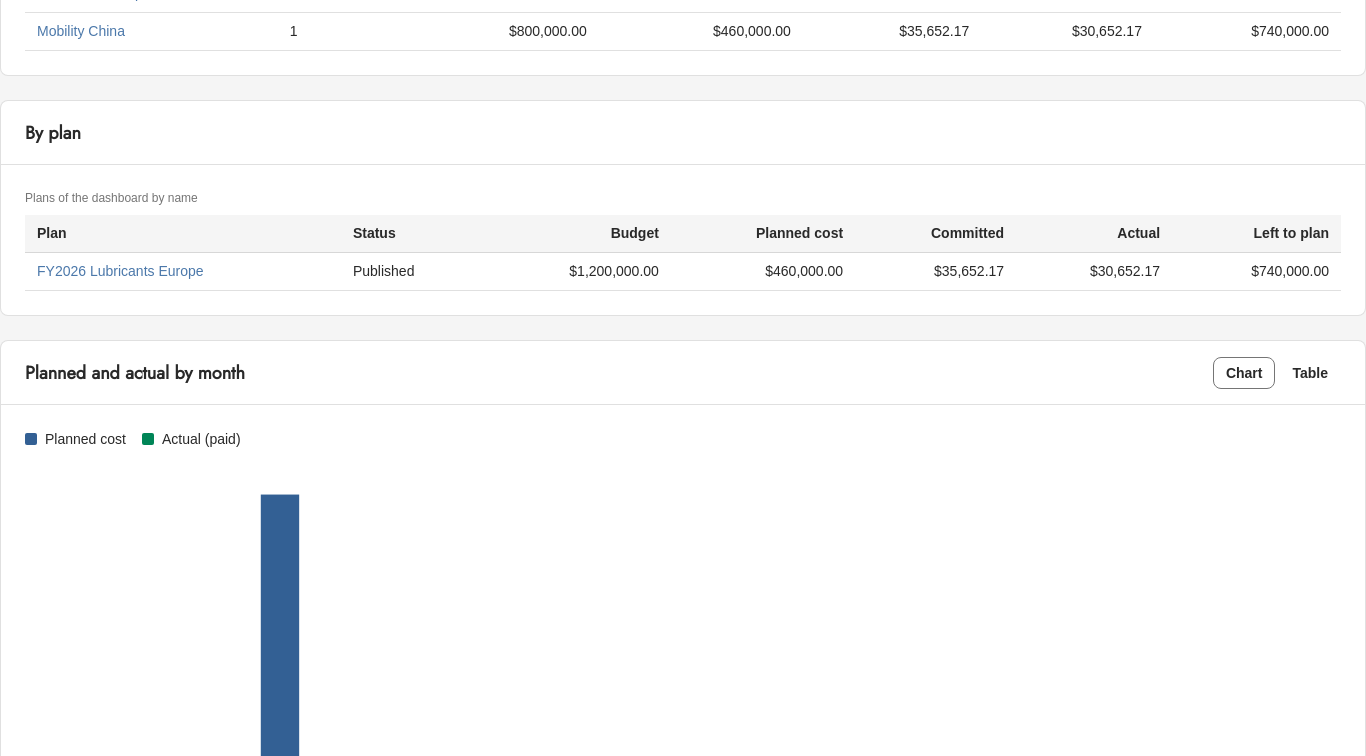
Test case: DashboardsPage (036 US1) › switches the chart to its table of every month (FR-029)
The width and height of the screenshot is (1366, 756).
(page scrolled)
Step 1. Click the button "Table" → (1310, 372), box [1280,356,1341,388]
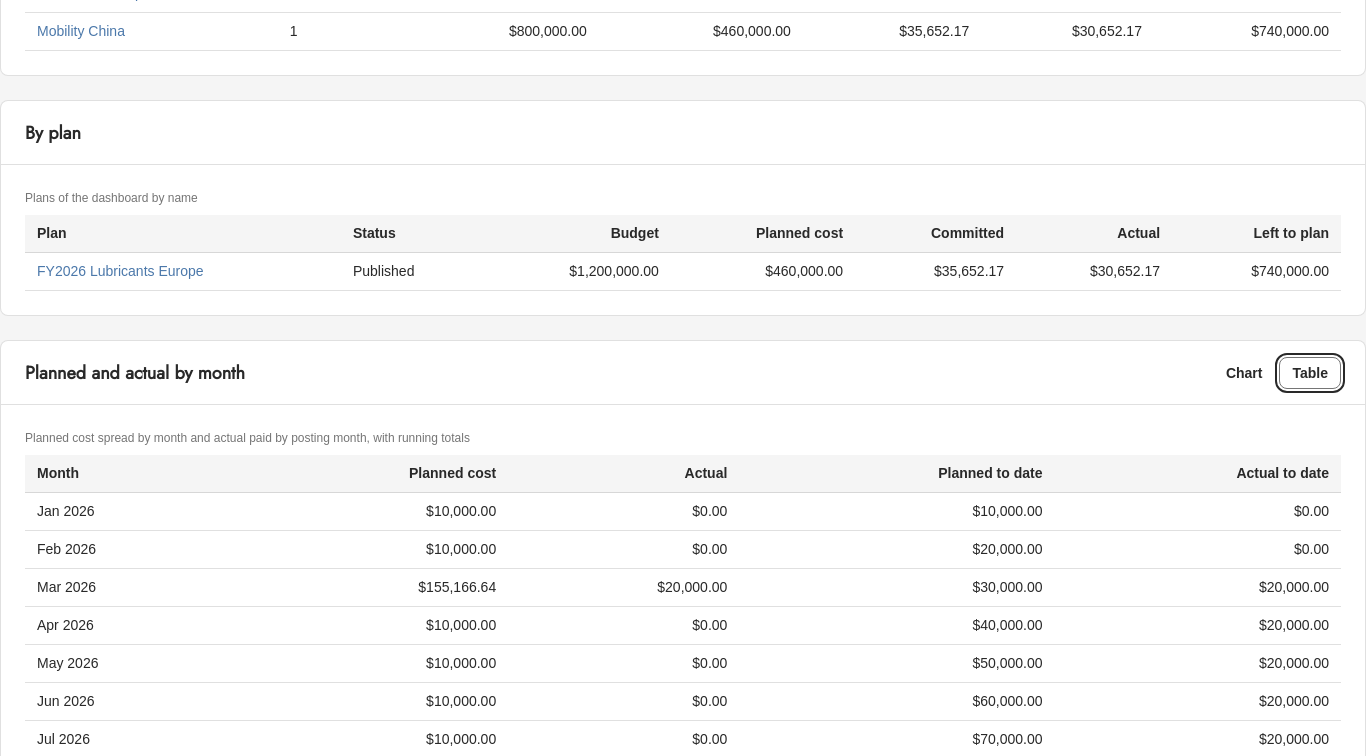
Now the column heading "Mar 2026" is shown, box [25,568,235,606]
